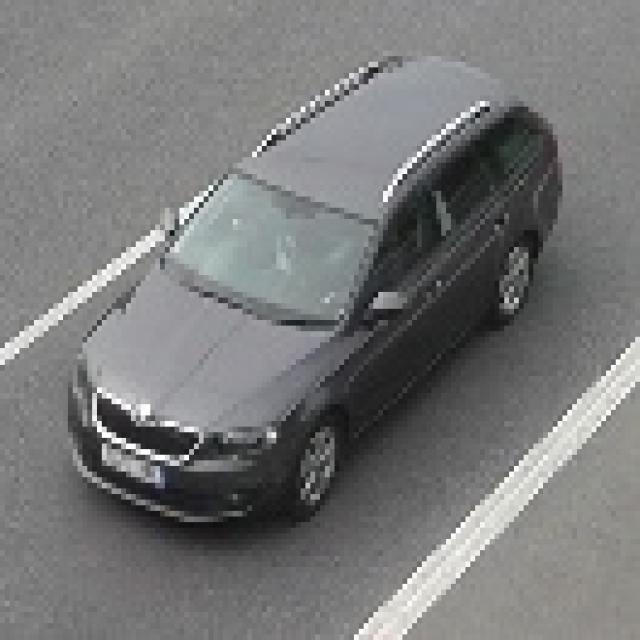SUV: (70, 41, 557, 526)
